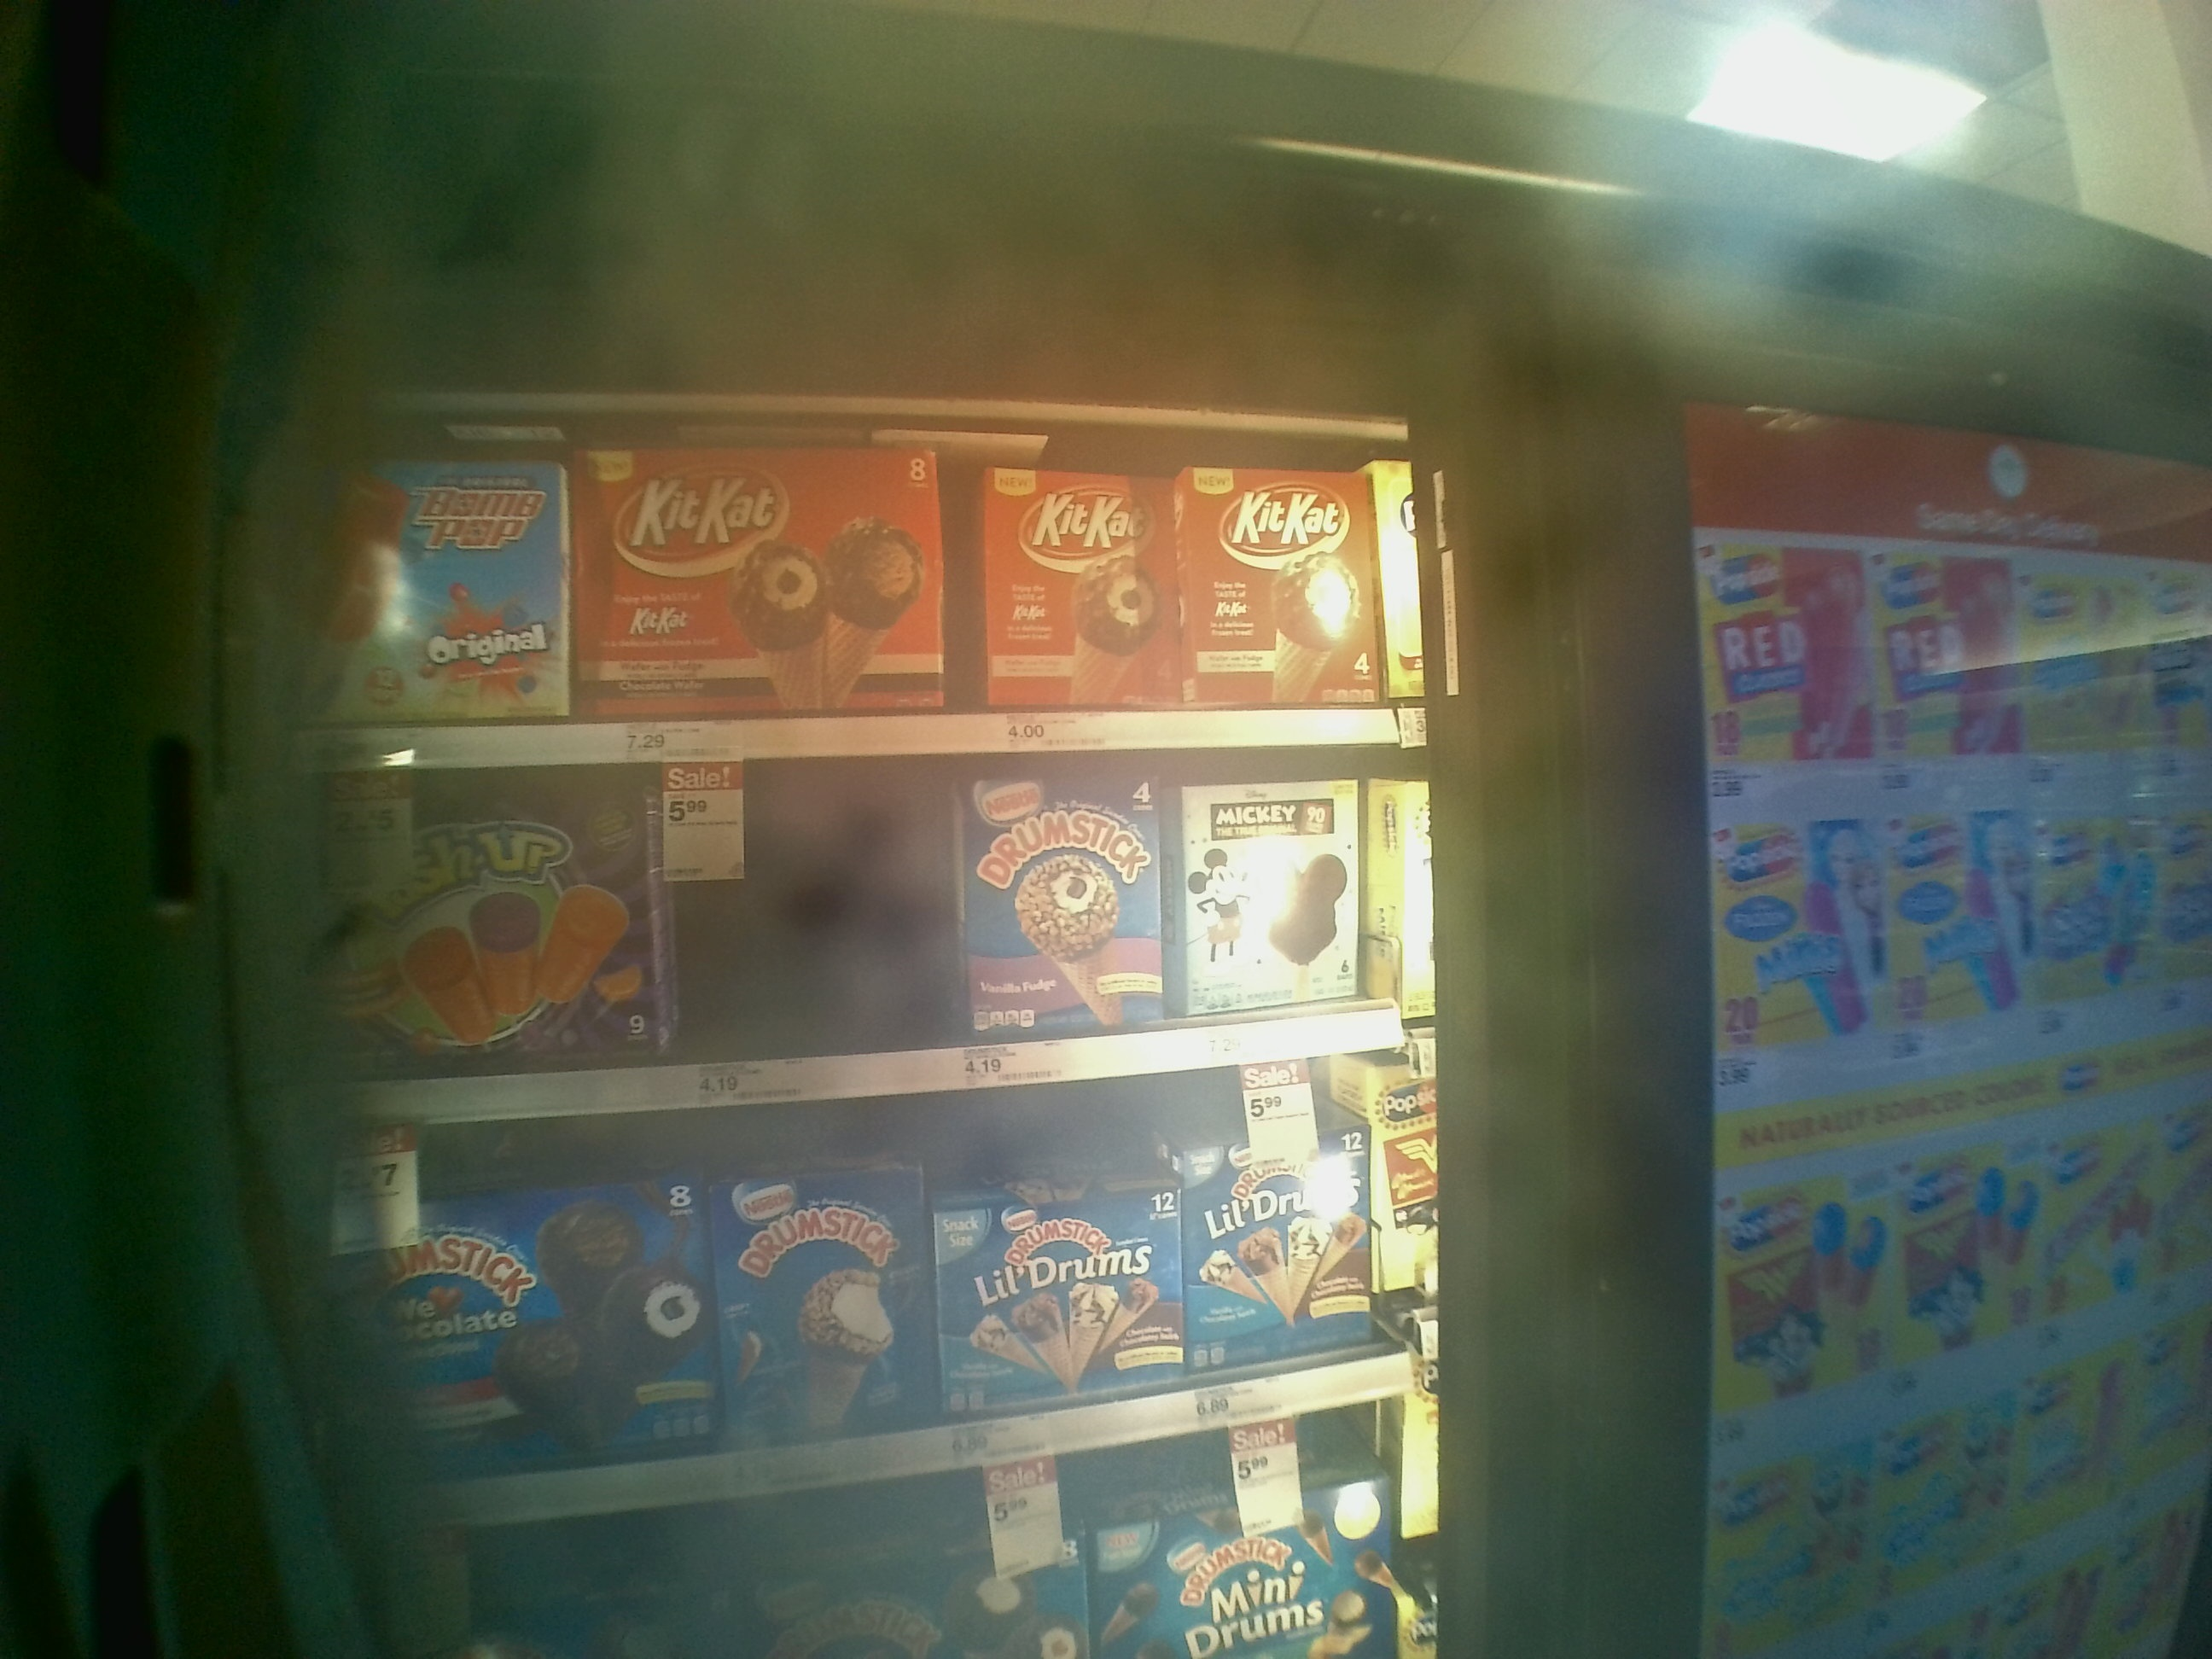shelf: (275, 739, 1439, 1115), (280, 403, 1435, 758)
